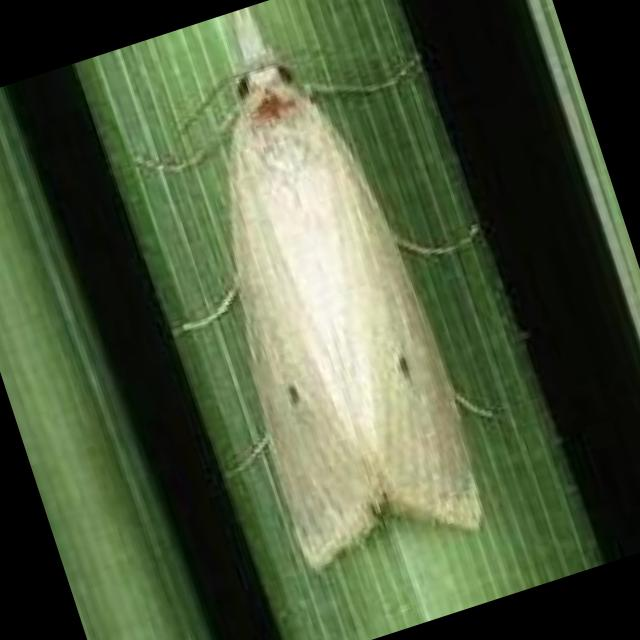stem-borer: (122, 0, 553, 591)
